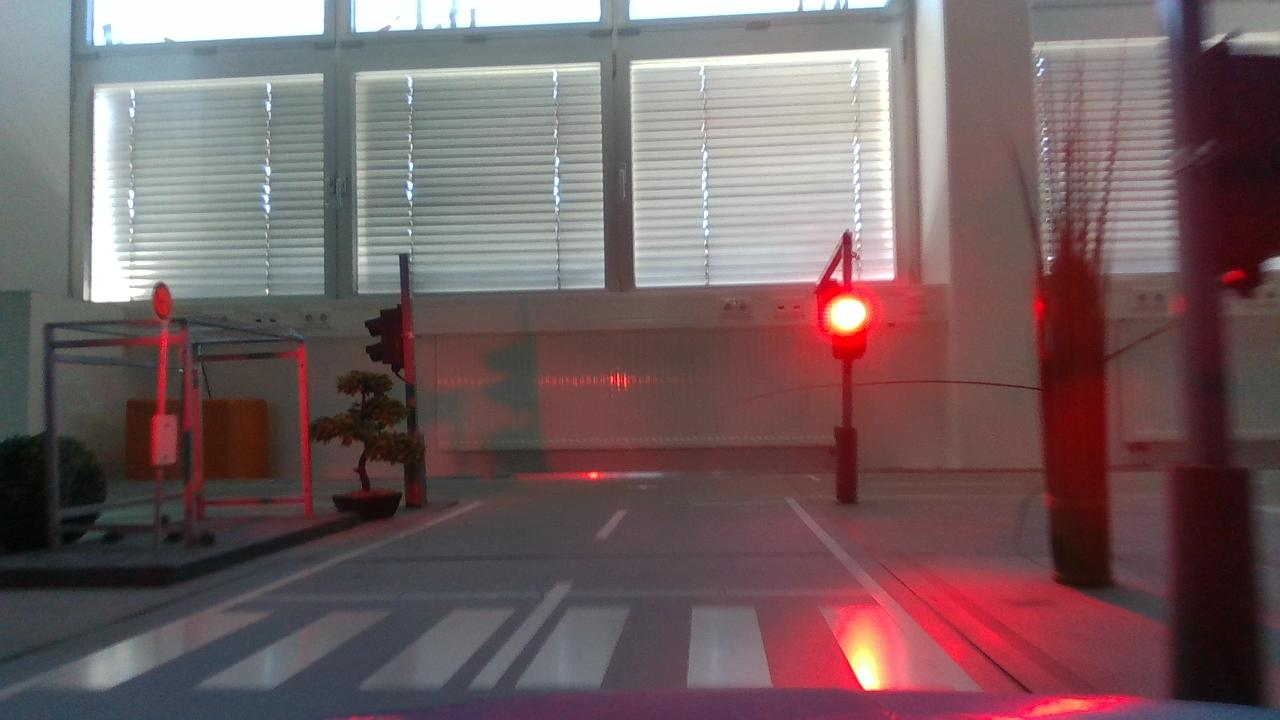traffic_light_red: (812, 276, 891, 377)
